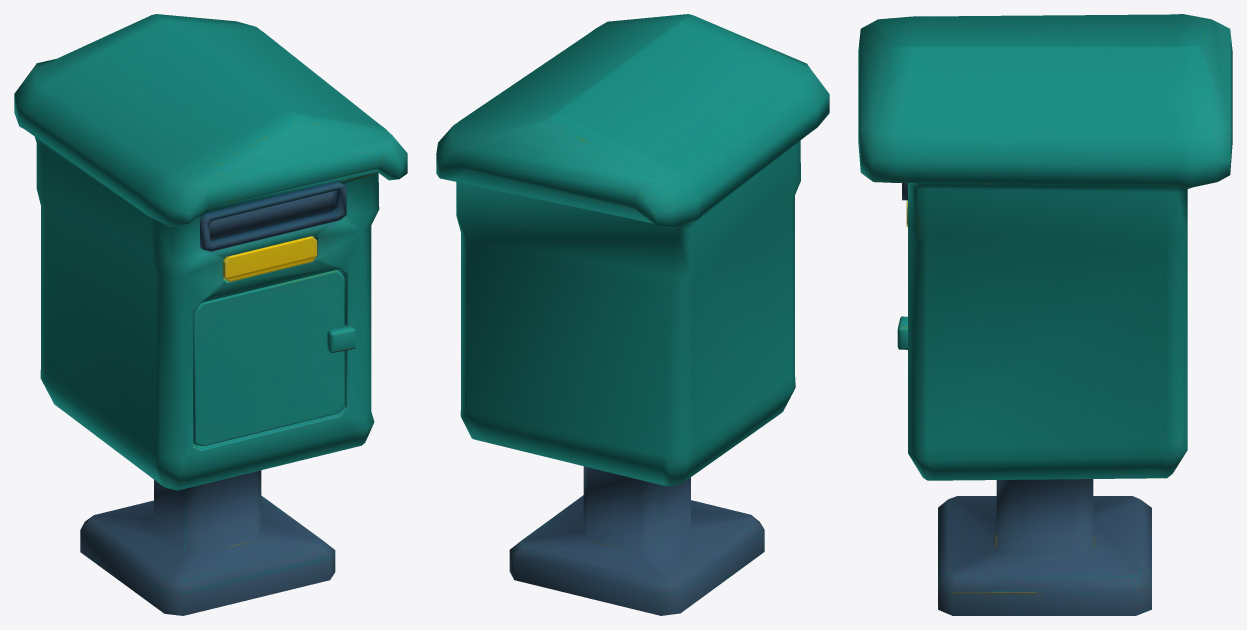
Rendered from PROP_MAILBOX_A01.glb.
3 renders of one model, left to right at view 1: azimuth 30°, elevation 25°; view 2: azimuth 150°, elevation 25°; view 3: azimuth 270°, elevation 25°, orthographic. The views are drawn at different scales.
Parts seen in each view (by area): view 1: tripo_node_6ebb83b8-b92a-4d74-8ac7-6c8b6b2c0157; view 2: tripo_node_6ebb83b8-b92a-4d74-8ac7-6c8b6b2c0157; view 3: tripo_node_6ebb83b8-b92a-4d74-8ac7-6c8b6b2c0157.
Boxes of the visible parts, bbox=[...] form: tripo_node_6ebb83b8-b92a-4d74-8ac7-6c8b6b2c0157: bbox=[14, 14, 407, 615]; tripo_node_6ebb83b8-b92a-4d74-8ac7-6c8b6b2c0157: bbox=[436, 14, 829, 615]; tripo_node_6ebb83b8-b92a-4d74-8ac7-6c8b6b2c0157: bbox=[858, 14, 1232, 615].
Size of the model in its own units: 0.5449 by 0.998 by 0.6348.
1 material, 1 textured.
